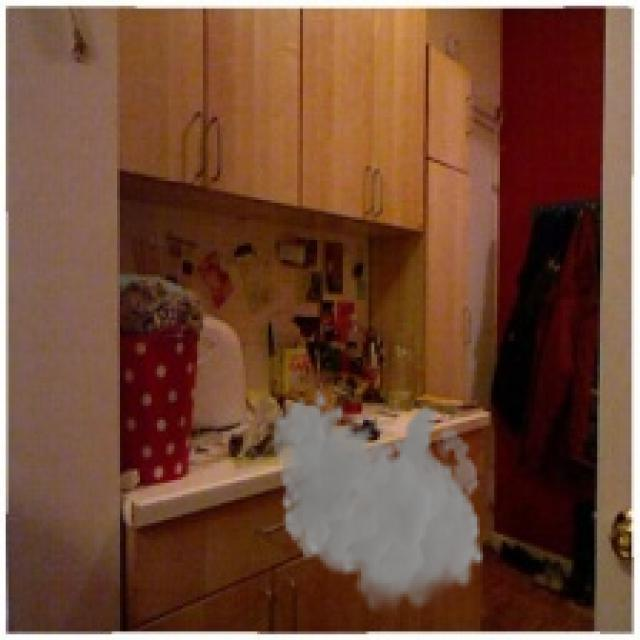Smoke: (271, 391, 486, 620)
